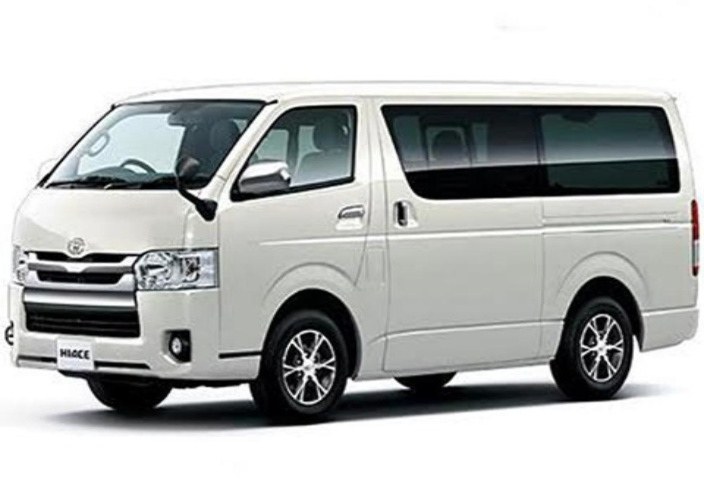van: (12, 68, 704, 412)
